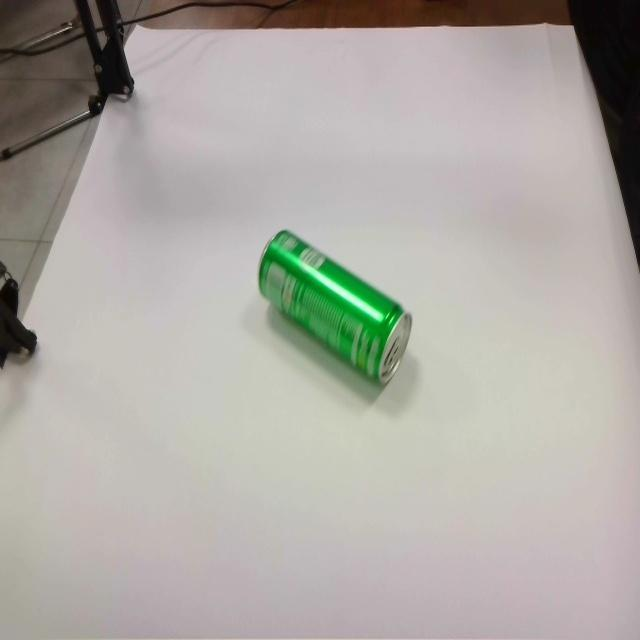debris: (256, 228, 414, 386)
